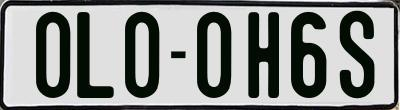0: (36, 11, 74, 102), (196, 11, 231, 102), (123, 9, 158, 98)
6: (291, 9, 328, 95)
H: (247, 12, 283, 103)
L: (77, 12, 116, 98)
S: (338, 8, 378, 97)
